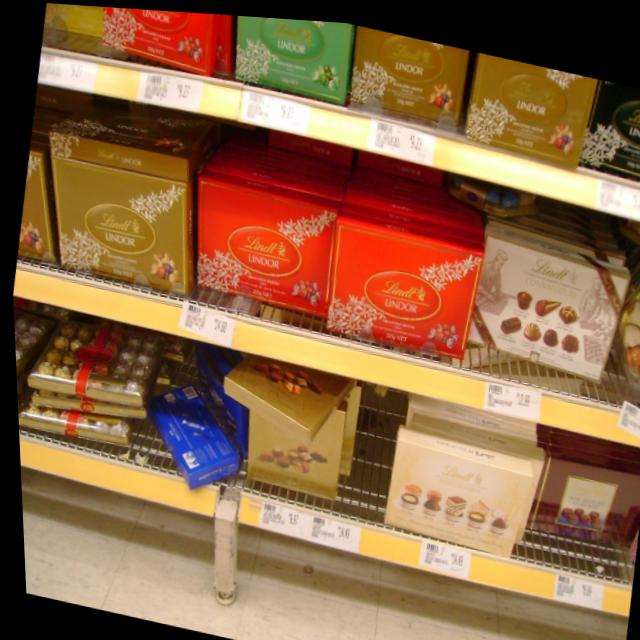q112: (22, 125, 204, 311)
